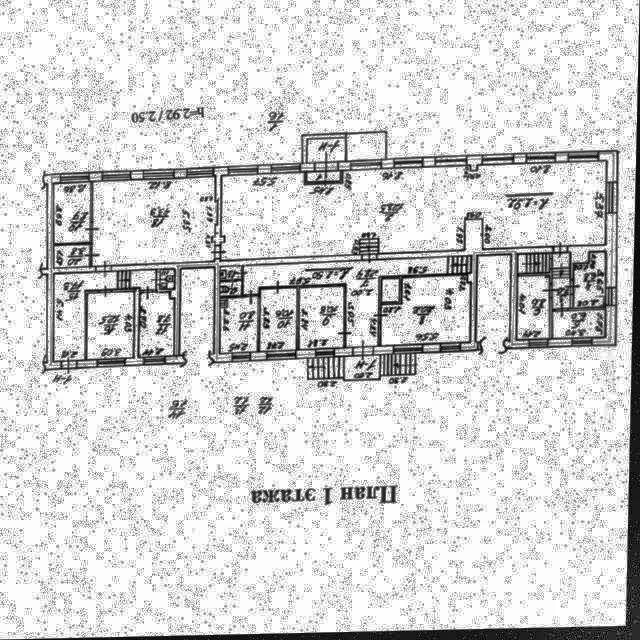room: (219, 164, 610, 262), (244, 259, 475, 352), (90, 177, 221, 267), (52, 271, 161, 361), (381, 278, 474, 348), (89, 292, 135, 361), (301, 288, 345, 351), (261, 290, 299, 353), (54, 183, 92, 245), (141, 293, 176, 358), (518, 277, 552, 343), (221, 298, 260, 355), (575, 255, 607, 311), (553, 314, 607, 341), (307, 140, 347, 164), (554, 256, 571, 312), (345, 358, 382, 382), (55, 246, 92, 268), (519, 257, 551, 276), (383, 281, 401, 305), (308, 173, 341, 183), (161, 270, 176, 291), (222, 283, 243, 297), (221, 268, 243, 280)
